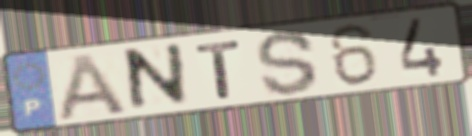4: (398, 15, 446, 79)
6: (327, 22, 382, 89)
A: (55, 51, 132, 124)
N: (125, 40, 191, 116)
S: (253, 29, 321, 98)
T: (192, 38, 245, 101)
